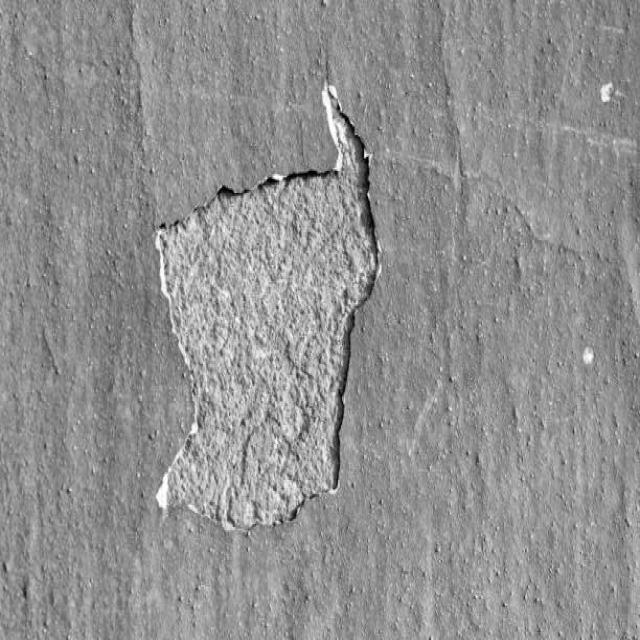peeling paint: (111, 46, 396, 579), (574, 59, 634, 130), (573, 339, 605, 379)
